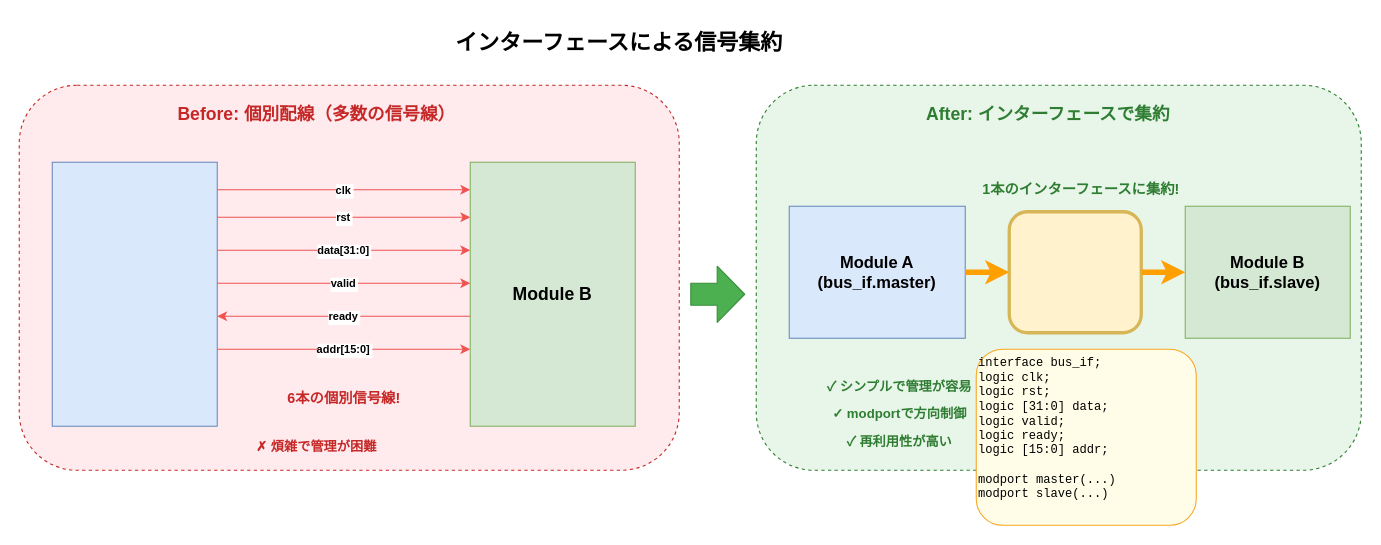
This 1381x545 diagram has some shape labels left out. The centre of each missing label's shape, as x and y in pixels:
bus_if (interface): the point at 1074,272
Module A: the point at 134,293
